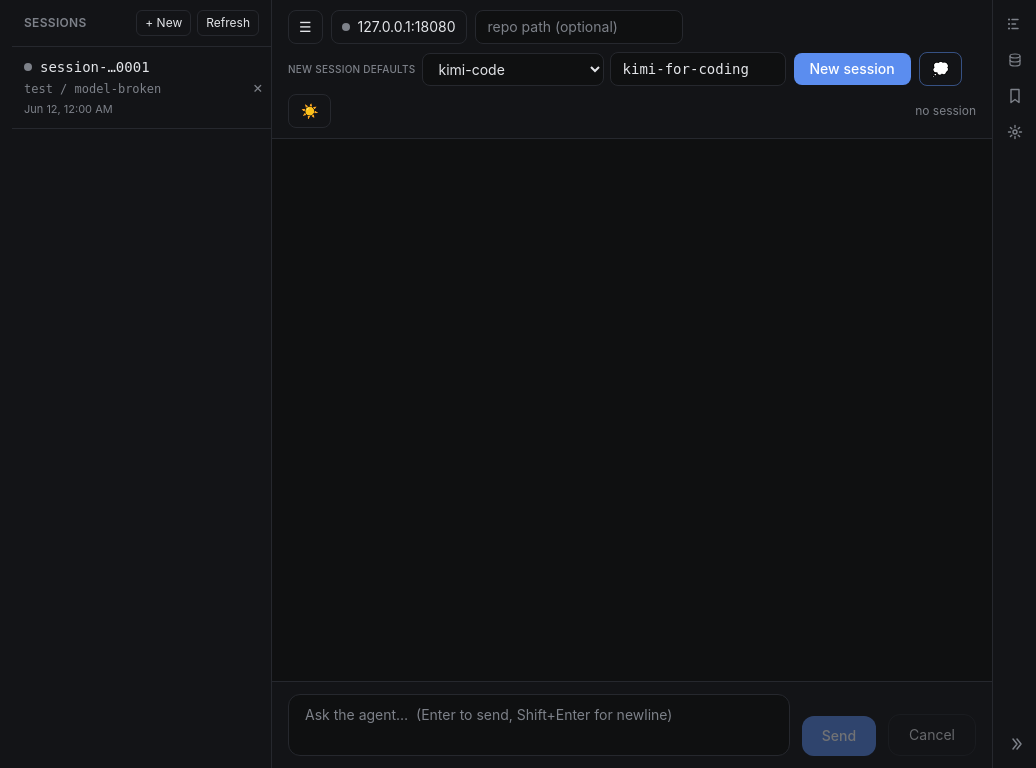
Test case: App session switching › shows a memory error instead of loading forever when session restore fails
Click the button "session-…0001 test / model-broken Jun 12, 12:00 AM": (128, 87) [12,47,244,128]
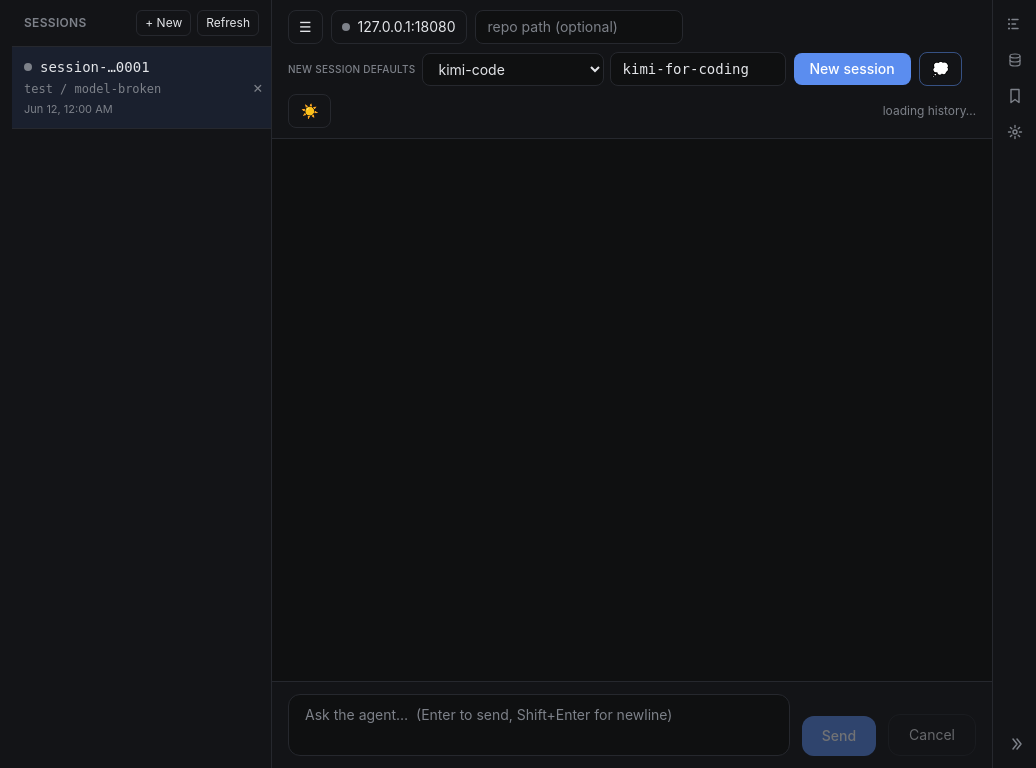
Click the button named "Toggle memory panel": (1014, 60) [998,44,1030,76]
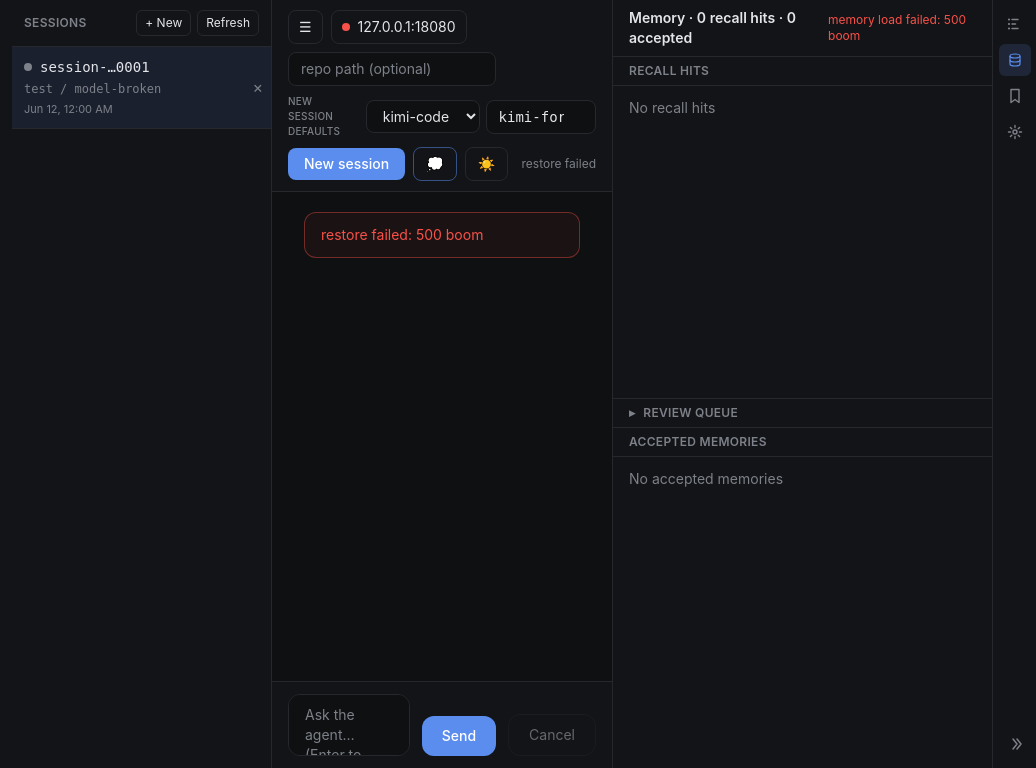
Result: the text "restore failed" is shown at [522,156,596,172]
Result: the text "memory load failed: 500 boom" is shown at [828,12,976,44]
